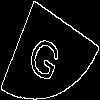G: (25, 25, 67, 86)
